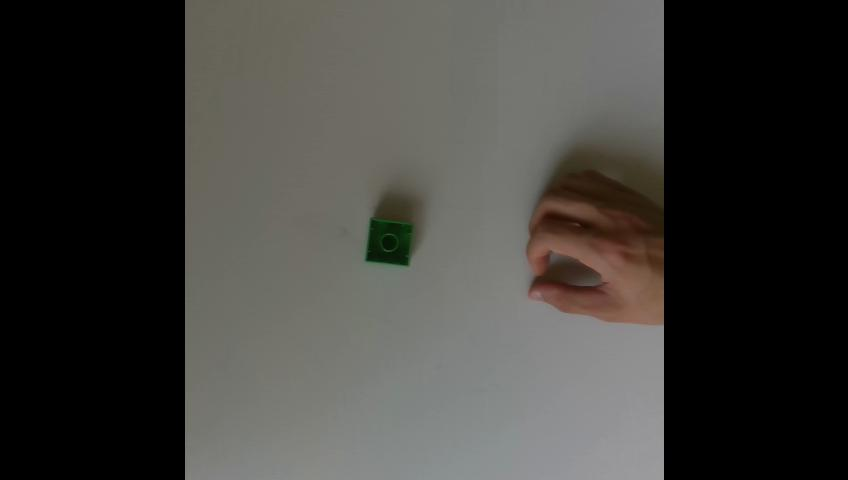2x2_green: (366, 217, 416, 271)
